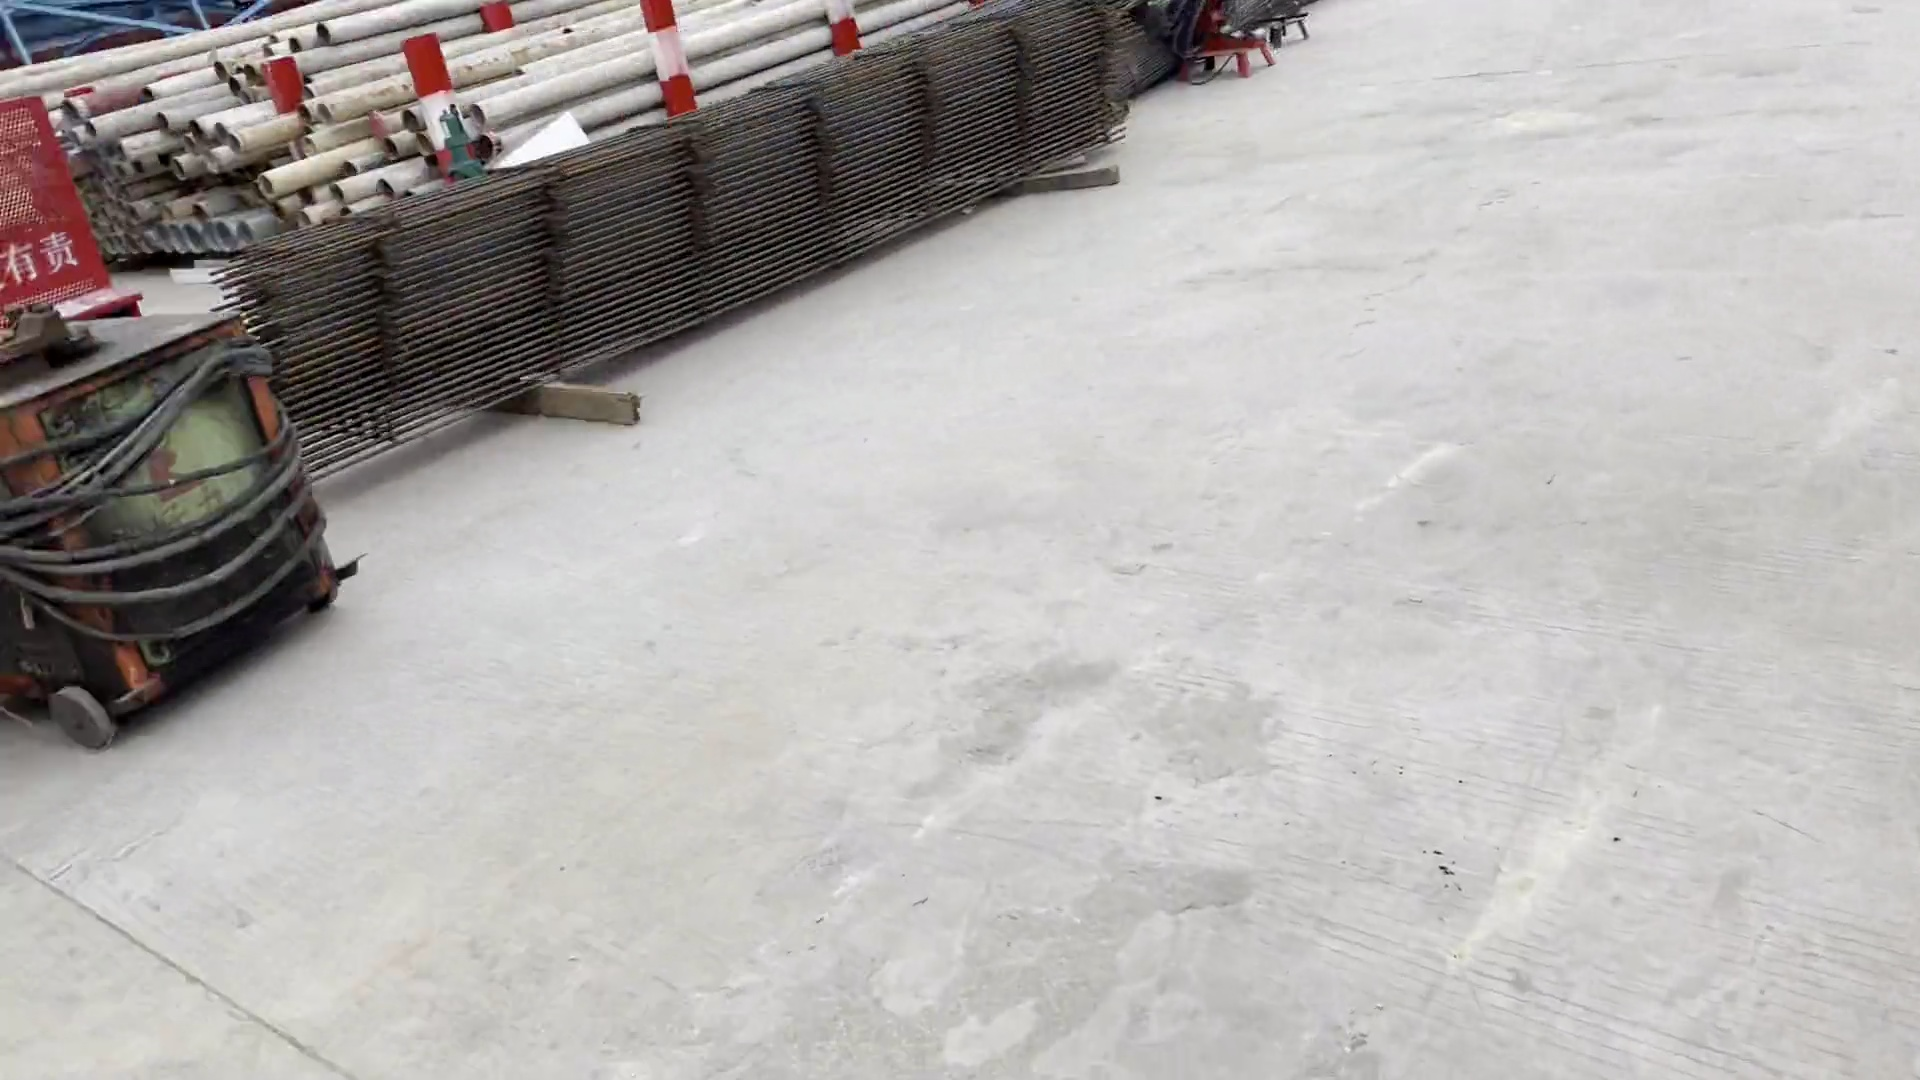cutter: (4, 287, 404, 762)
fence: (1, 82, 138, 309)
rebar: (210, 160, 708, 479), (591, 109, 994, 320), (746, 40, 1172, 210)
